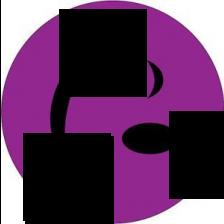purple: (0, 1, 223, 224)
